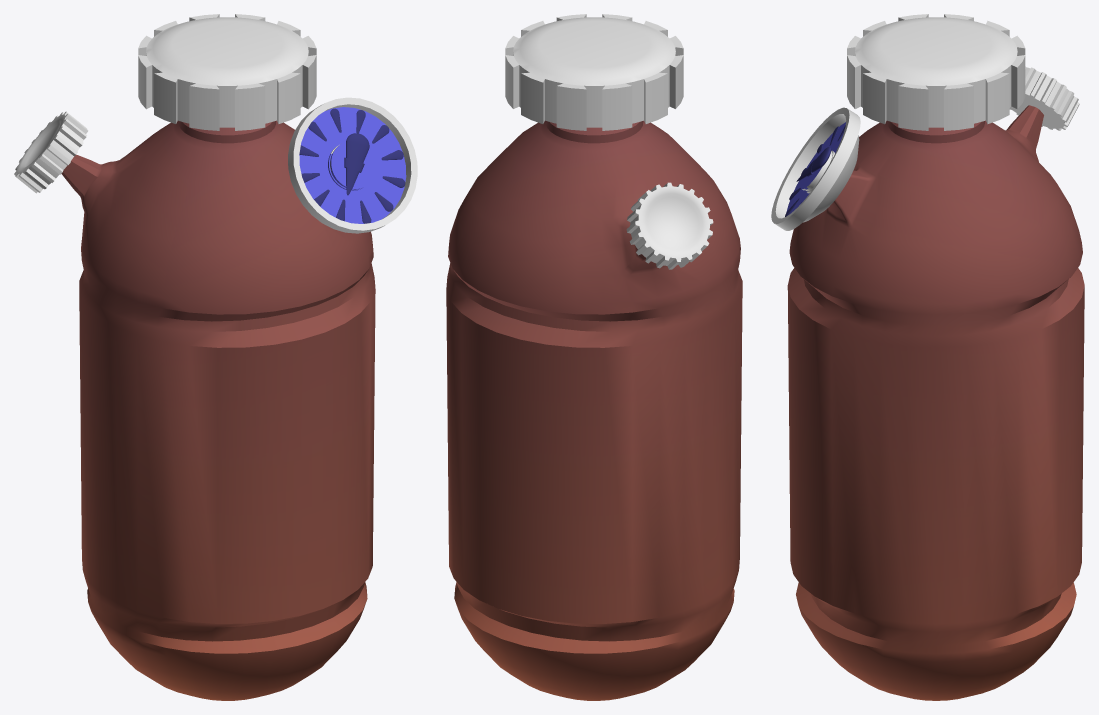
Rendered from Cilindro.fbx.
3 views of the same model, side by side, from view 1: azimuth 30°, elevation 25°; view 2: azimuth 150°, elevation 25°; view 3: azimuth 270°, elevation 25° (orthographic).
Visible parts, largest first — view 1: Sphere.002, Gear.002, Cylinder.002, Gear, Cylinder.003, Cylinder.004; view 2: Sphere.002, Gear.002, Gear; view 3: Sphere.002, Gear.002, Cylinder.002, Gear.
Part boxes in pixels (x1,y1,x2,y2): Sphere.002: (61, 120, 375, 700); Gear.002: (138, 14, 316, 130); Cylinder.002: (288, 97, 417, 233); Gear: (14, 111, 88, 193); Cylinder.003: (299, 108, 405, 223); Cylinder.004: (344, 133, 369, 195); Sphere.002: (446, 120, 742, 700); Gear.002: (505, 14, 683, 130); Gear: (626, 182, 713, 269); Sphere.002: (787, 105, 1084, 700); Gear.002: (847, 14, 1025, 130); Cylinder.002: (771, 107, 860, 230); Gear: (1009, 66, 1079, 130).
Bounding box in the file's own units: 534 × 1133 × 501.
